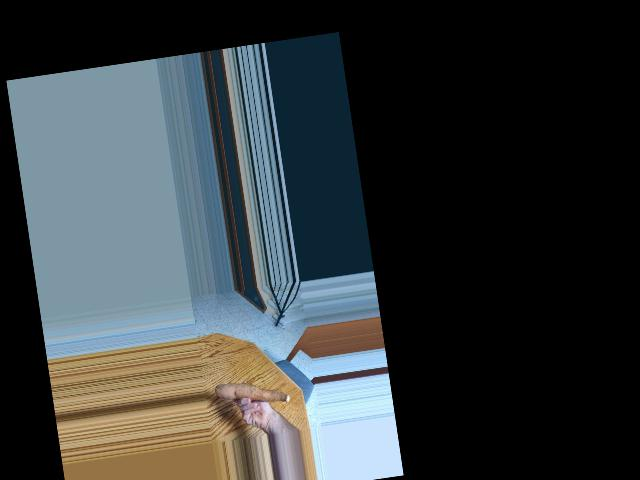sweet_potato: (216, 372, 291, 414)
